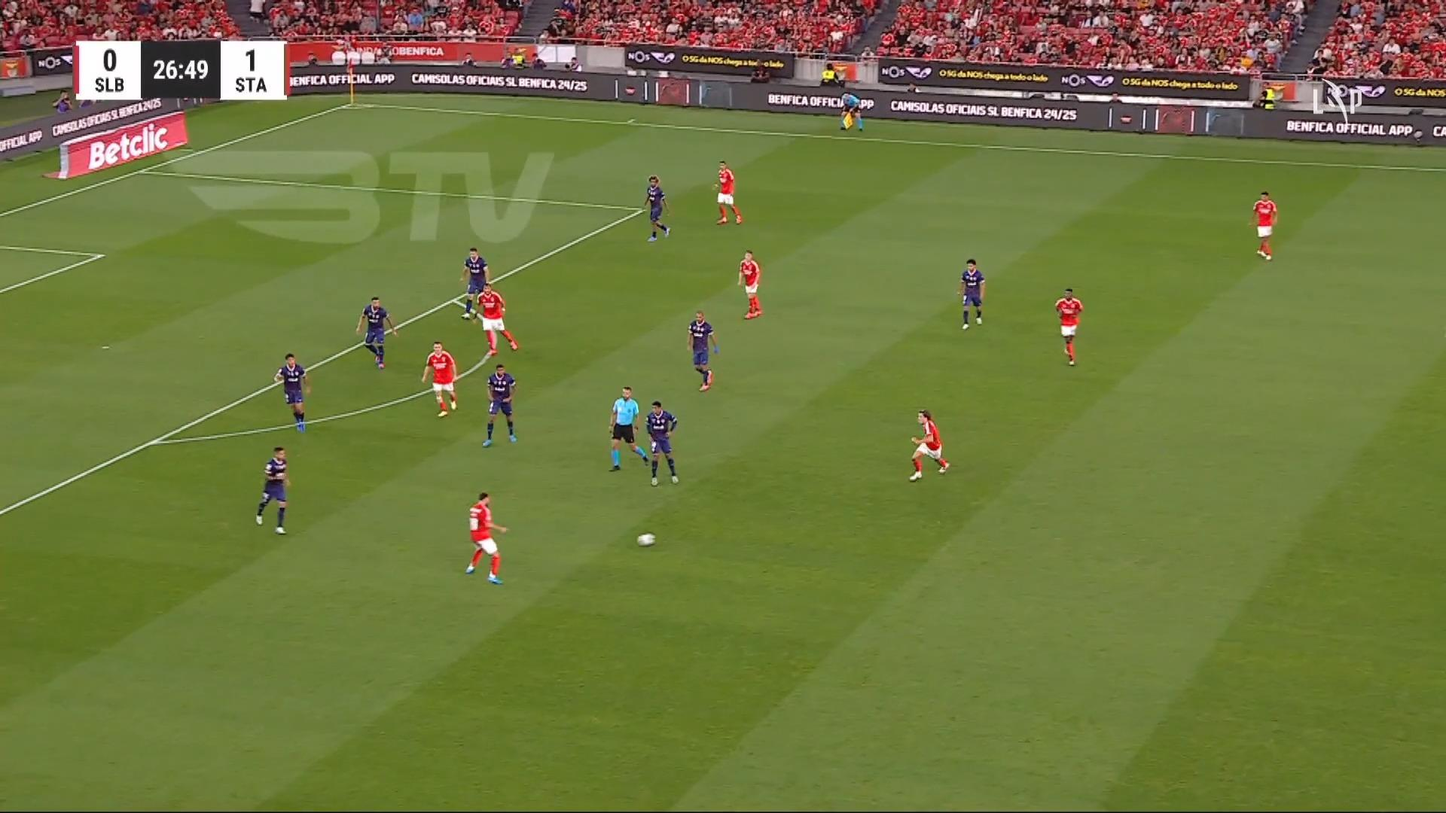ball: (636, 532, 654, 547)
player: (464, 491, 508, 584), (474, 282, 520, 356), (355, 296, 398, 370), (643, 400, 679, 486), (255, 446, 290, 534), (908, 408, 950, 481), (481, 363, 517, 447), (273, 352, 310, 433), (420, 340, 458, 417), (686, 309, 718, 391), (459, 246, 490, 319), (1054, 288, 1083, 366), (712, 160, 743, 224), (958, 257, 985, 330), (1250, 190, 1278, 260), (642, 175, 670, 242), (737, 249, 763, 319)
referee: (607, 385, 648, 471), (838, 91, 866, 131)
